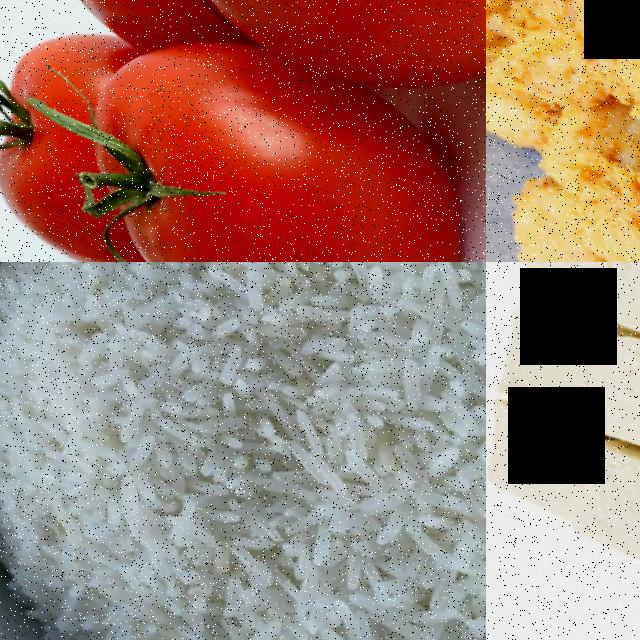tofu: (488, 290, 595, 419), (554, 419, 640, 569), (568, 314, 640, 455), (592, 262, 640, 348)
tomato: (54, 0, 486, 262), (127, 0, 486, 124)
white rice: (0, 262, 486, 640)
